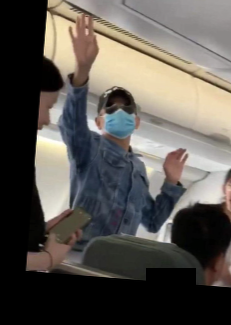with_mask: (100, 97, 136, 139)
without_mask: (38, 92, 57, 139)
